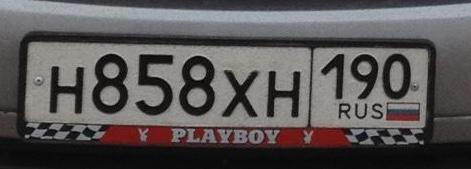license-plateSW: (21, 40, 431, 129)
